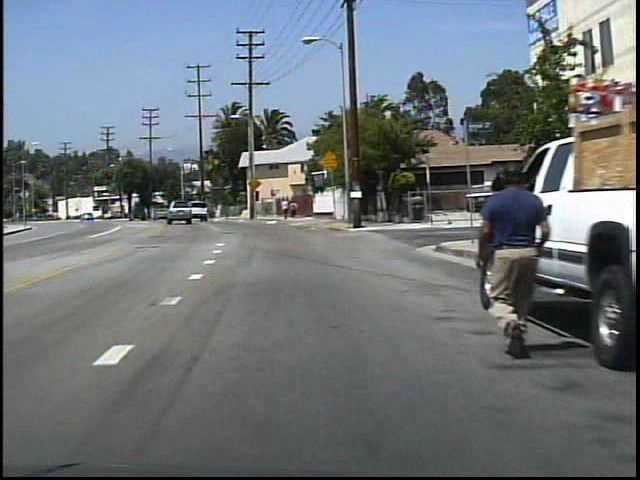person: (470, 159, 544, 360), (279, 196, 290, 221), (288, 199, 298, 220)
